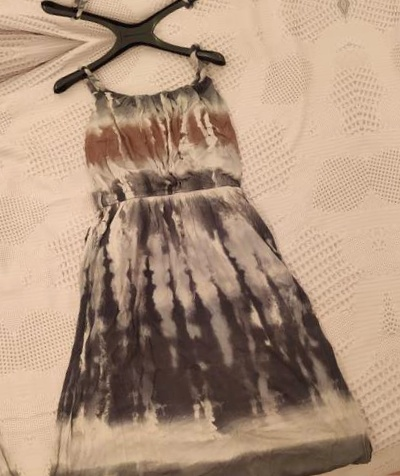Dress: (17, 21, 390, 476), (367, 0, 400, 454), (0, 0, 321, 38)
